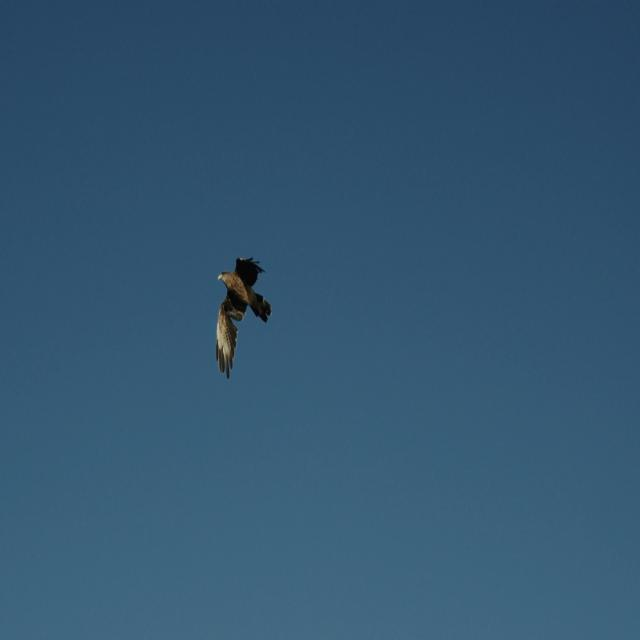bird: (206, 249, 282, 388)
